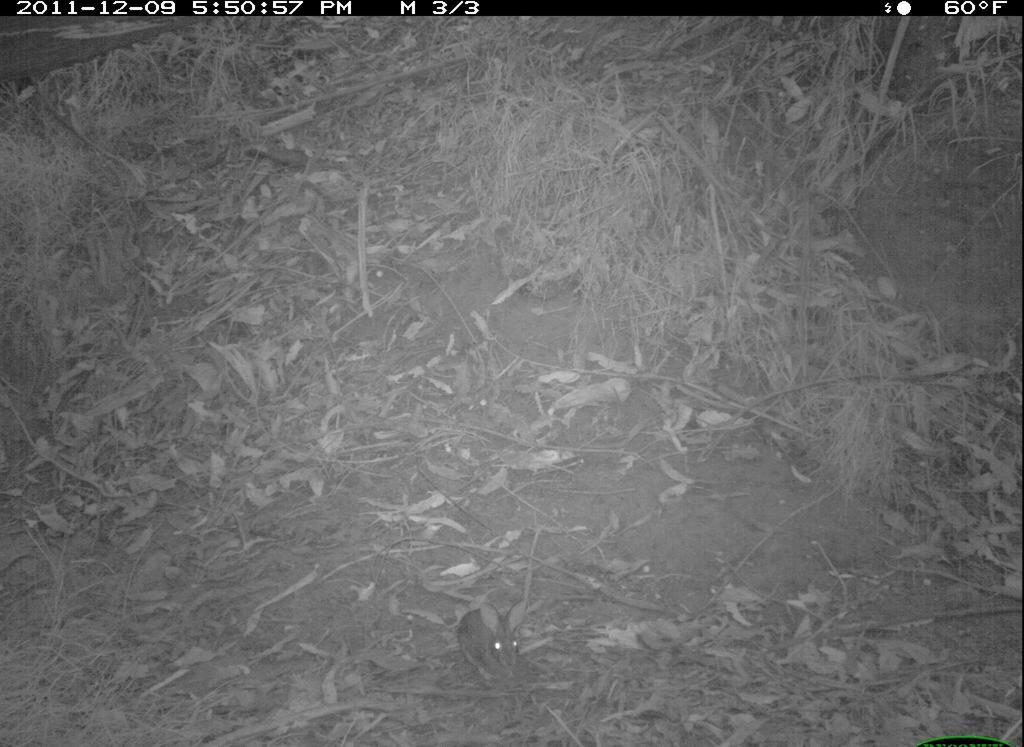rabbit: (442, 596, 543, 697)
